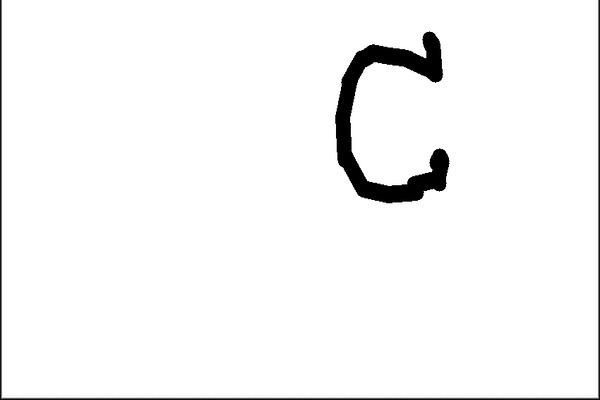C: (331, 28, 456, 205)
